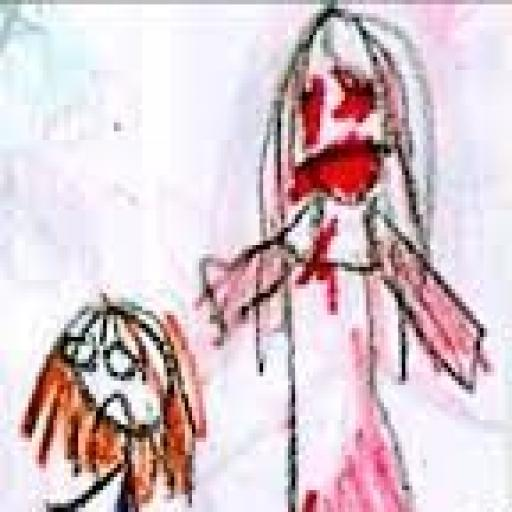person: (211, 0, 498, 512), (28, 292, 208, 512)
